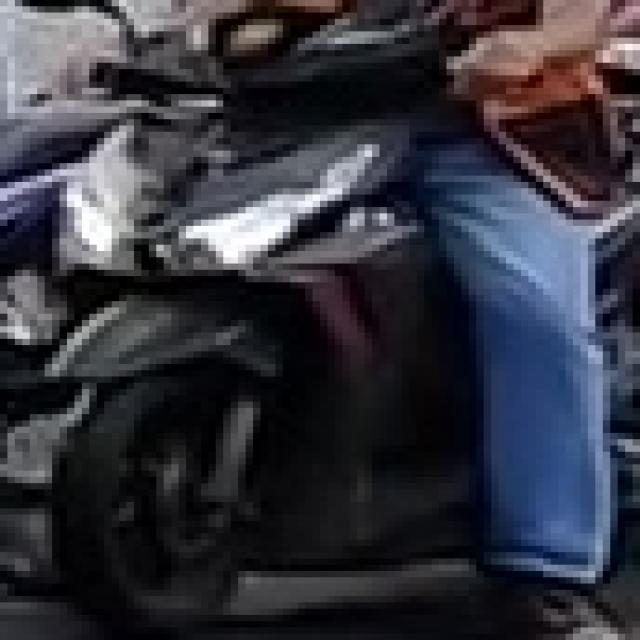door: (0, 0, 633, 634)
tyre: (44, 370, 260, 621)
